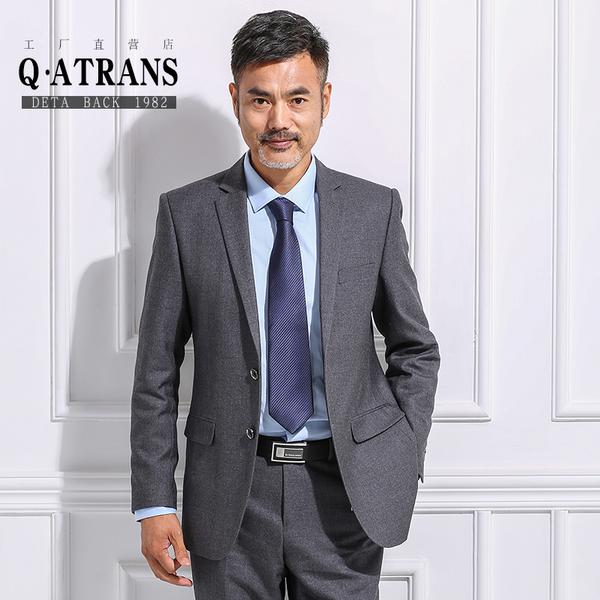F_M_suit jacket: (112, 154, 445, 547)
F_belt: (251, 430, 341, 469)
F_dress pants: (184, 466, 387, 597)
F_tie: (263, 197, 314, 432)
